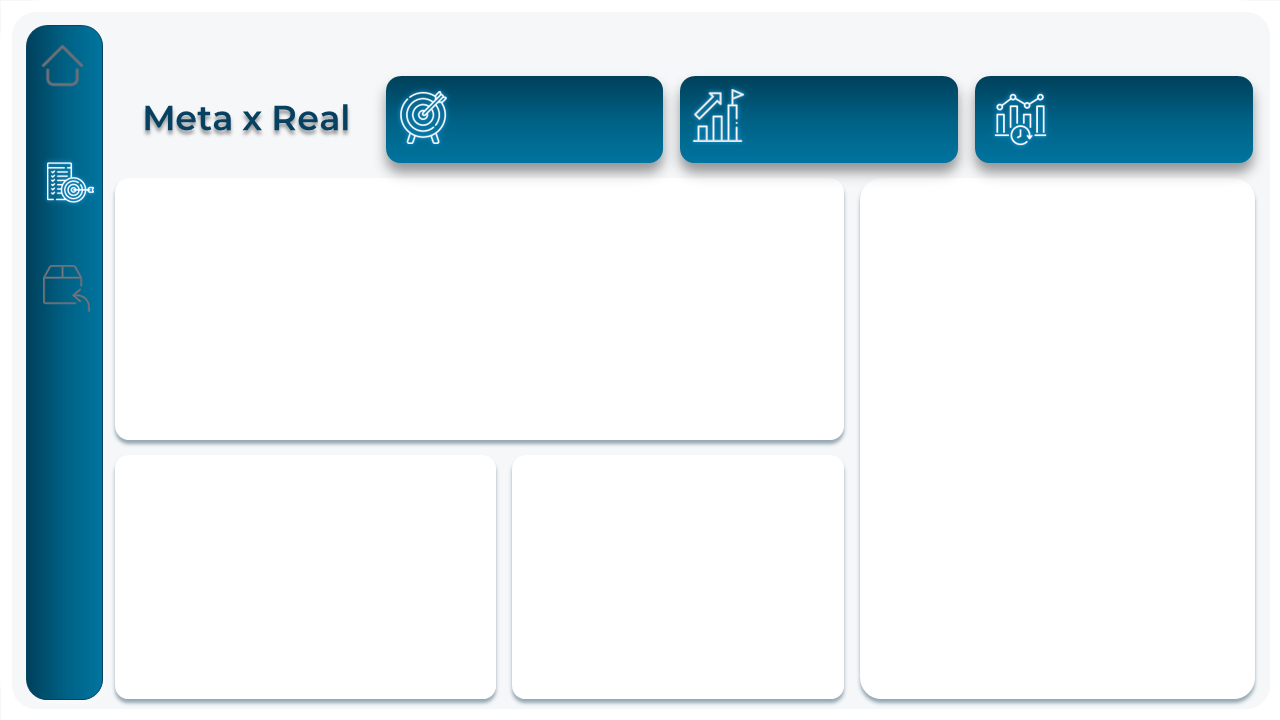

Layout of this report page (visuals, bound fields, positions):
{"tool":"powerbi","page":{"name":"Visão Geral","canvas":[1280,720],"ordinal":0},"visuals":[{"type":"card","fields":{"Values":["BaseVendas.Faturamento com desconto"]},"box":[180,77.3,177.3,90.9],"z":0},{"type":"card","fields":{"Values":["Medidas.Qtd Clientes"]},"box":[762.7,77.3,184.5,90.9],"z":1000},{"type":"card","fields":{"Values":["Medidas.Total Vendas"]},"box":[450,77.3,209.1,90.9],"z":2000},{"type":"slicer","fields":{"Values":["Calendario.Ano"]},"box":[1081,17,160,60],"z":3000},{"type":"clusteredColumnChart","title":"Faturamento Atual vs Ano Anterior","fields":{"Category":["Calendario.Nome do mes"],"Y":["Medidas.Faturamento com desconto","Medidas.Faturamento LY"]},"box":[103.7,194.2,822,229.7],"z":4000},{"type":"clusteredBarChart","title":"Faturamento por Categoria","fields":{"Category":["BaseVendas.Category"],"Y":["Medidas.Faturamento com desconto"]},"box":[104,453,380,240],"z":5000},{"type":"donutChart","title":"Método de Pagamento","fields":{"Category":["BaseVendas.Metodo de Pagamento"],"Y":["Medidas.Faturamento com desconto"]},"box":[947,453,307,240],"z":6000},{"type":"slicer","fields":{"Values":["BaseVendas.Pais"]},"box":[903,16,160,60],"z":7000},{"type":"pivotTable","fields":{"Values":["Medidas.Total Vendas","Medidas.Faturamento com desconto"],"Rows":["BaseVendas.Pais"]},"box":[515,453,404,240],"z":8000},{"type":"donutChart","title":"Canal de Venda","fields":{"Category":["BaseVendas.Canal de Vendas"],"Y":["Medidas.Faturamento com desconto"]},"box":[947,194,303,230],"z":9000},{"type":"slicer","fields":{"Values":["BaseVendas.Canal de Vendas"]},"box":[701,15,177,60],"z":10000},{"type":"card","fields":{"Values":["Medidas.Quantidade Devolvida"]},"box":[1050.9,77.3,179.1,90.9],"z":11000}]}

Visuals, with their boxes on the page's 1280x720 design canvas (x1, y1, x2, y2). These are canvas units, not pixel positions in the 1280x720 screenshot, which may show the page scaled, cropped or inside an application window:
card - BaseVendas.Faturamento com desconto: bbox=[180, 77, 357, 168]
card - Medidas.Qtd Clientes: bbox=[763, 77, 947, 168]
card - Medidas.Total Vendas: bbox=[450, 77, 659, 168]
slicer - Calendario.Ano: bbox=[1081, 17, 1241, 77]
"Faturamento Atual vs Ano Anterior" clusteredColumnChart: bbox=[104, 194, 926, 424]
"Faturamento por Categoria" clusteredBarChart: bbox=[104, 453, 484, 693]
"Método de Pagamento" donutChart: bbox=[947, 453, 1254, 693]
slicer - BaseVendas.Pais: bbox=[903, 16, 1063, 76]
pivotTable - Medidas.Total Vendas x Medidas.Faturamento com desconto: bbox=[515, 453, 919, 693]
"Canal de Venda" donutChart: bbox=[947, 194, 1250, 424]
slicer - BaseVendas.Canal de Vendas: bbox=[701, 15, 878, 75]
card - Medidas.Quantidade Devolvida: bbox=[1051, 77, 1230, 168]
